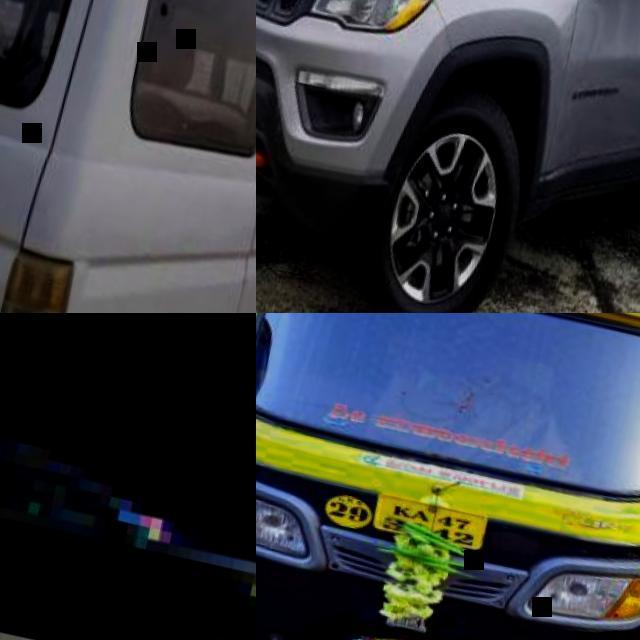car: (255, 0, 639, 304)
